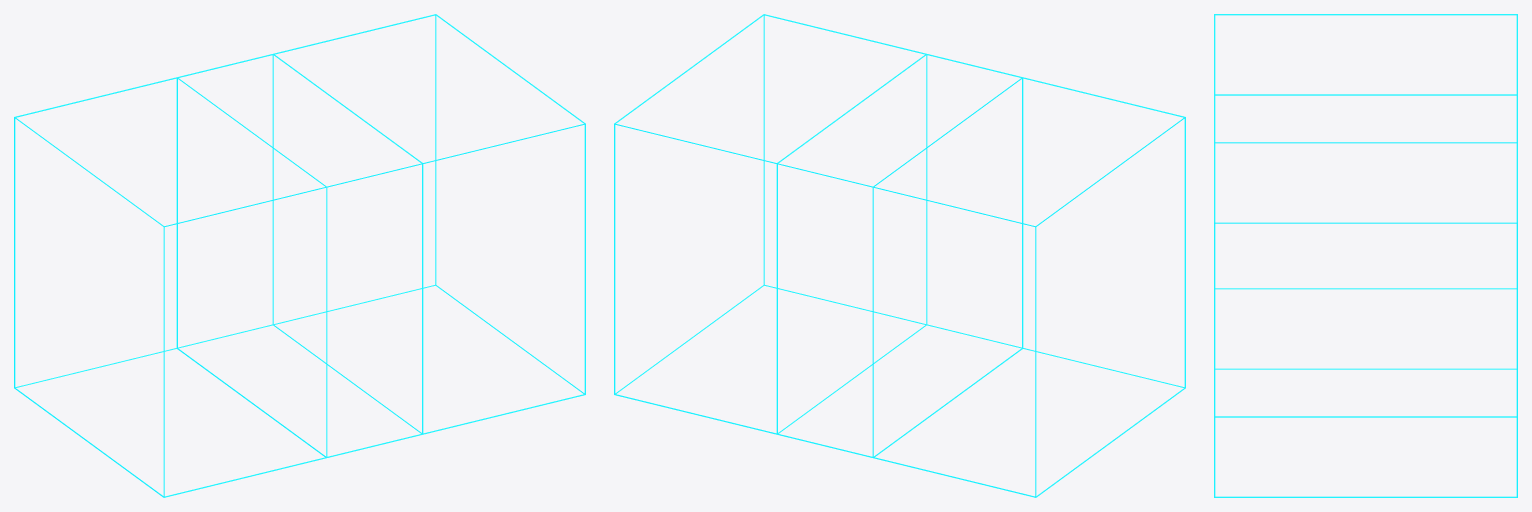
3 views of the same model, side by side, from view 1: azimuth 30°, elevation 25°; view 2: azimuth 150°, elevation 25°; view 3: azimuth 270°, elevation 25° (orthographic).
Visible parts, largest first — view 1: Cube, Cube.001; view 2: Cube, Cube.001; view 3: Cube, Cube.001.
Part boxes in pixels (x1,y1,x2,y2): Cube: (176, 14, 585, 458); Cube.001: (14, 54, 423, 497); Cube: (614, 14, 1023, 458); Cube.001: (776, 53, 1185, 497); Cube: (1214, 94, 1517, 497); Cube.001: (1214, 14, 1517, 417).
Size of the model in its own units: 13.46 by 8.27 by 8.27.
